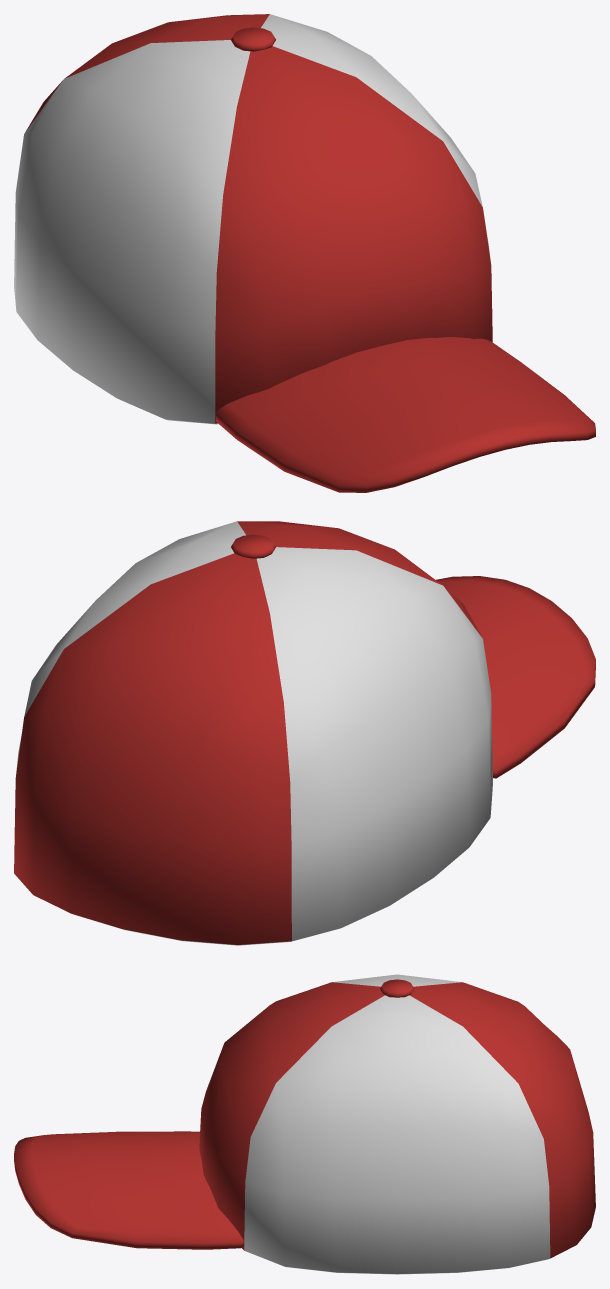
File: fishing_cap.fbx
3 renders of one model, top to bottom at view 1: azimuth 30°, elevation 25°; view 2: azimuth 150°, elevation 25°; view 3: azimuth 270°, elevation 25°, orthographic. The views are drawn at different scales.
Visible parts, largest first — view 1: fishing_cap; view 2: fishing_cap; view 3: fishing_cap.
Part boxes in pixels (x1,y1,x2,y2): fishing_cap: [14, 14, 595, 492]; fishing_cap: [14, 521, 595, 945]; fishing_cap: [14, 974, 595, 1274].
Bounding box in the file's own units: 42.49 × 33.01 × 78.03.
